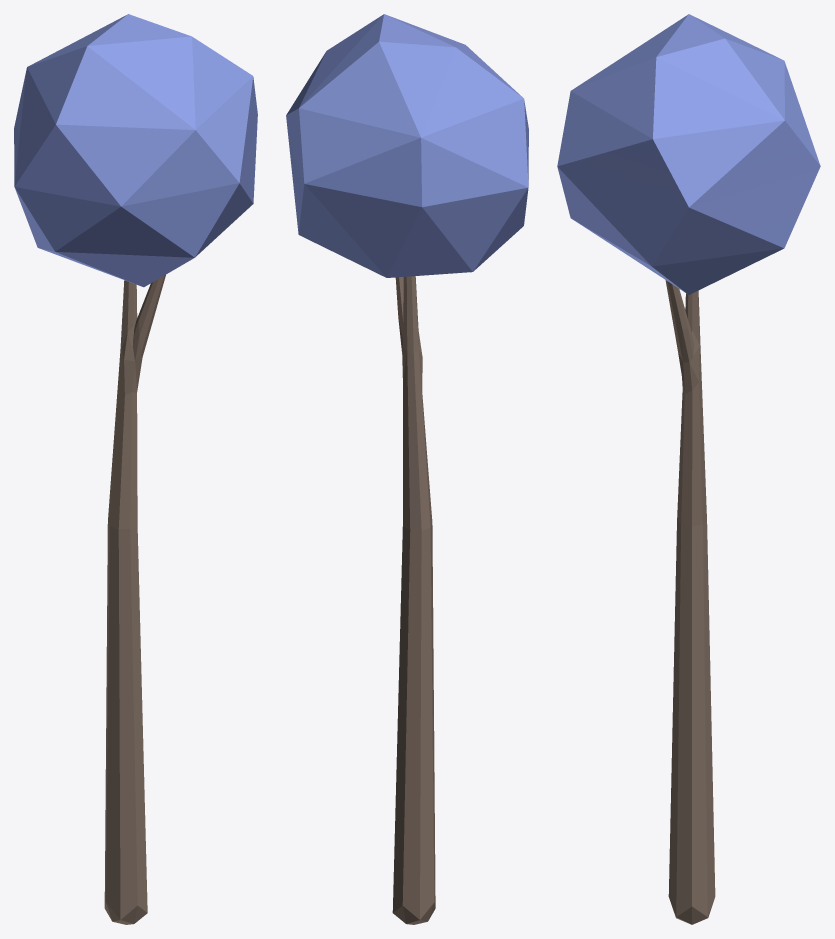
Rendered from Albero lungo.fbx.
3 views of the same model, side by side, from view 1: azimuth 30°, elevation 25°; view 2: azimuth 150°, elevation 25°; view 3: azimuth 270°, elevation 25° (orthographic).
Parts seen in each view (by area): view 1: Icosphere.003; view 2: Icosphere.003; view 3: Icosphere.003.
Boxes of the visible parts, x1,y1,x2,y2 form: Icosphere.003: (14,14,257,924); Icosphere.003: (286,14,528,924); Icosphere.003: (557,14,820,924).
Size of the model in its own units: 100 by 352 by 93.87.
